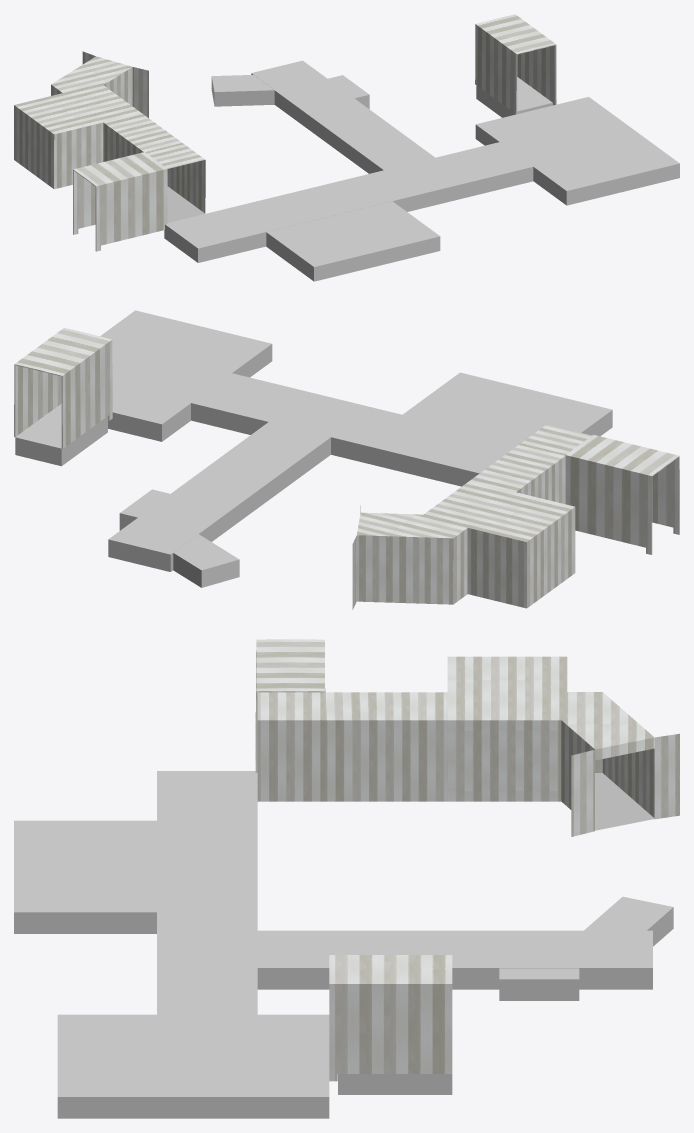
The model's file is Floorplan.fbx.
3 views of the same model, one above another, from view 1: azimuth 30°, elevation 25°; view 2: azimuth 150°, elevation 25°; view 3: azimuth 270°, elevation 25° (orthographic). The views are drawn at different scales.
Visible parts, largest first — view 1: Wall__7_, Cube__2_, Cube__5_, Cube__8_, Cube, PartyRoomHallway, LibraryHallway, Cube__10_, Cube__6_, Wall__7__001, Cube__11_; view 2: Wall__7_, Cube__2_, Cube, Cube__5_, PartyRoomHallway, LibraryHallway, Cube__8_, Cube__6_, Cube__10_, Cube__11_; view 3: Wall__7_, Cube__5_, Cube__2_, Cube, Cube__8_, LibraryHallway, PartyRoomHallway, Cube__11_, Cube__6_, Cube__10_, Wall__7__001.
Boxes of the visible parts, x1,y1,x2,y2 form: Wall__7_: (14,51,205,213); Cube__2_: (164,142,533,262); Cube__5_: (475,97,679,205); Cube__8_: (266,201,440,281); Cube: (251,60,434,173); PartyRoomHallway: (73,152,167,251); LibraryHallway: (475,14,556,114); Cube__10_: (211,75,274,106); Cube__6_: (476,77,552,117); Wall__7__001: (167,186,204,222); Cube__11_: (328,75,369,108); Wall__7_: (352,424,591,609); Cube__2_: (191,373,519,486); Cube: (108,422,330,571); Cube__5_: (100,310,272,441); PartyRoomHallway: (565,434,679,554); LibraryHallway: (14,328,112,448); Cube__8_: (402,372,612,443); Cube__6_: (15,403,107,466); Cube__10_: (173,534,239,587); Cube__11_: (119,489,169,530); Wall__7_: (257,656,679,836); Cube__5_: (57,1014,329,1118); Cube__2_: (157,771,257,1014); Cube: (257,930,652,989); Cube__8_: (14,820,156,933); LibraryHallway: (329,955,452,1081); PartyRoomHallway: (255,639,325,772); Cube__11_: (499,968,579,1000); Cube__6_: (338,1074,452,1094); Cube__10_: (584,896,673,946); Wall__7__001: (566,773,654,830).
Bounding box in the file's own units: 3721 × 517 × 2785.
